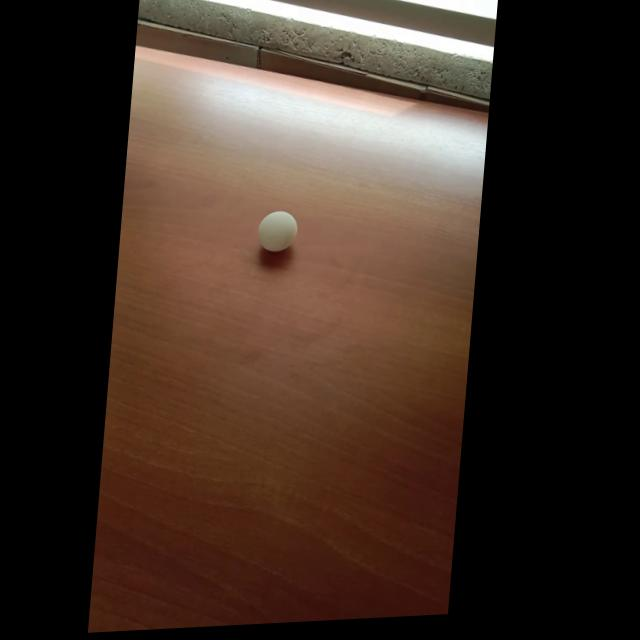white ball: (255, 209, 299, 253)
